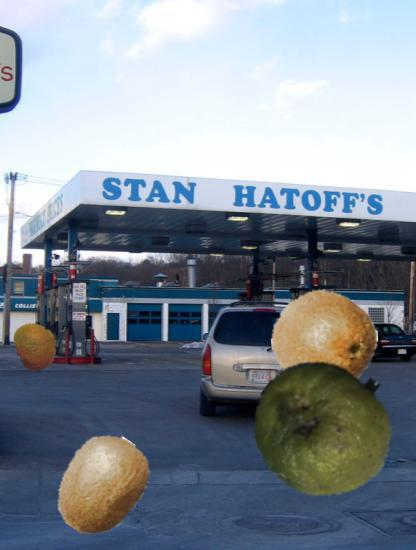Kiwi: (271, 286, 379, 394), (50, 433, 155, 538)
Limes: (253, 356, 396, 499)
Mandarine: (11, 321, 62, 372)
Melon: (279, 297, 376, 394)
